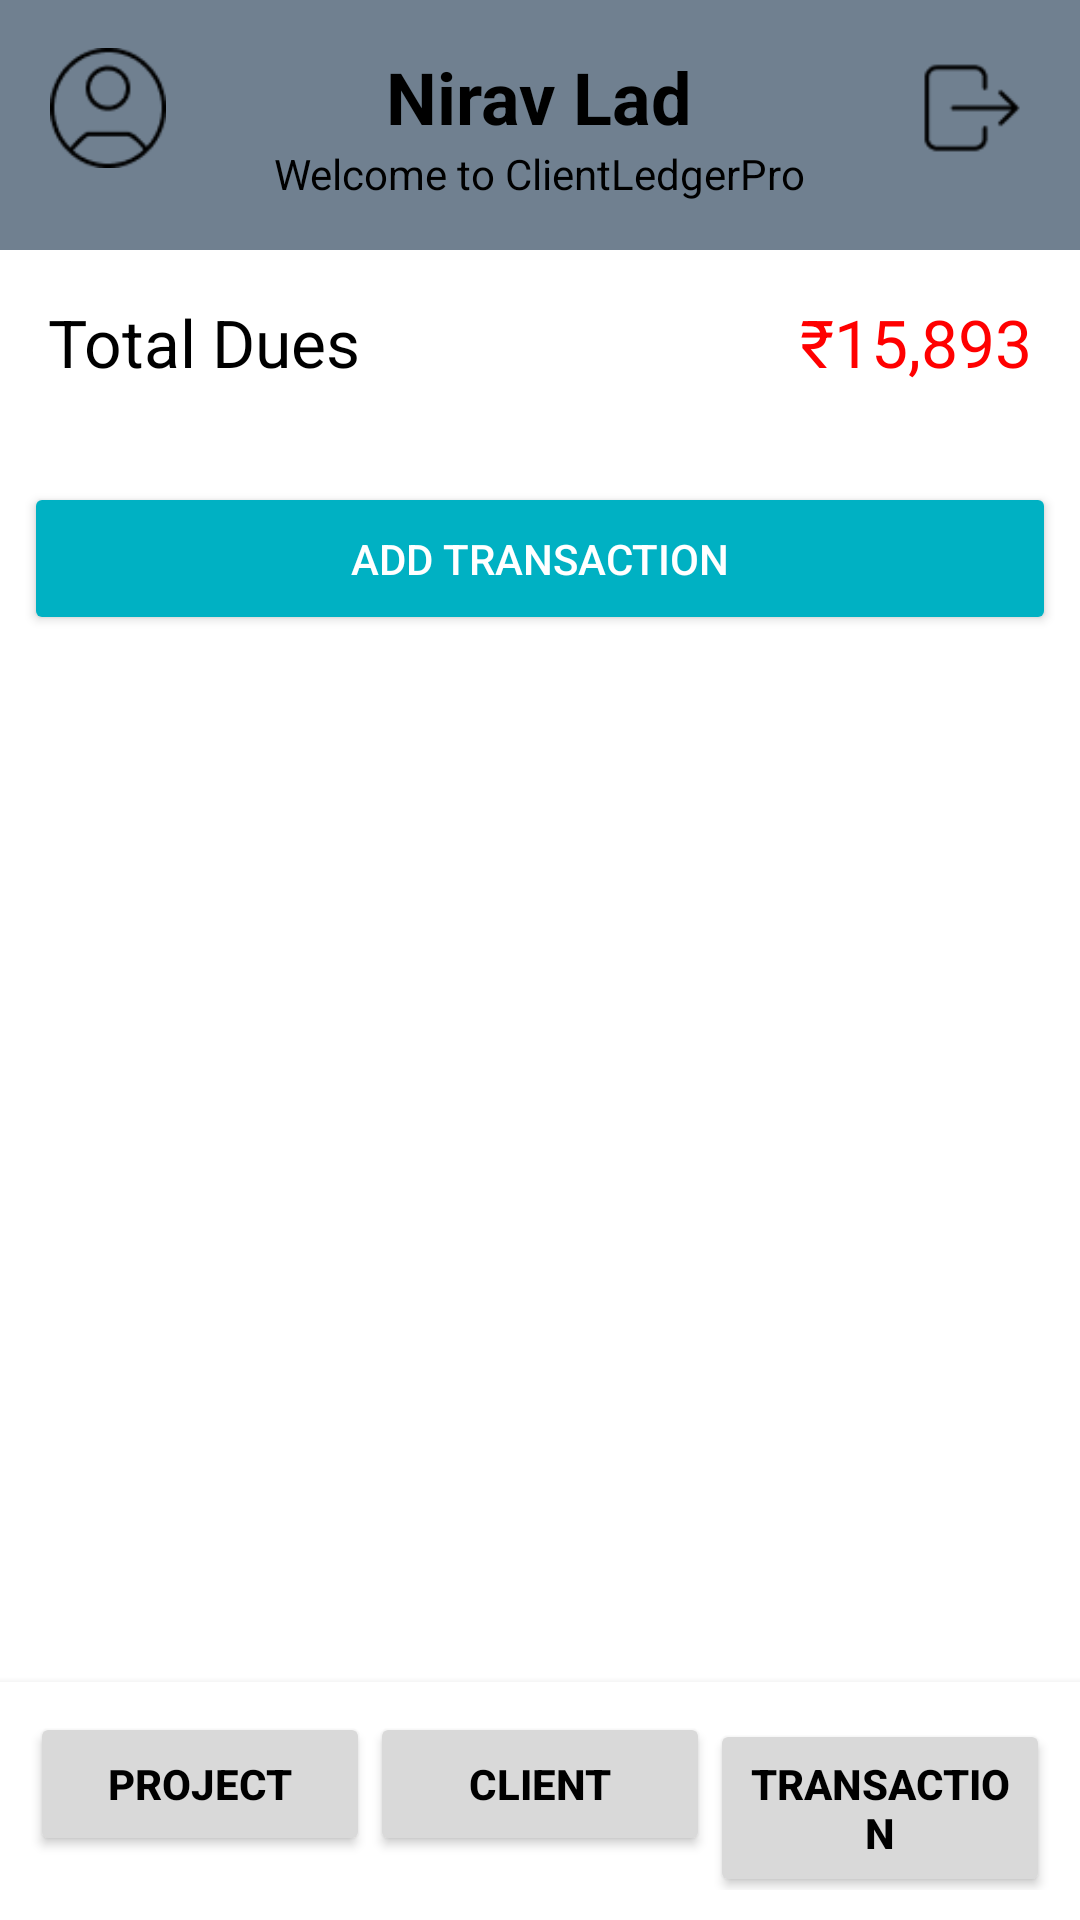

Icon bounding boxes for this 1080w x 1920h phone screenshot, format (x1=x1, y1=y1, x2=x2, y2=y2):
Profile Icon: (x1=50, y1=48, x2=166, y2=168)
